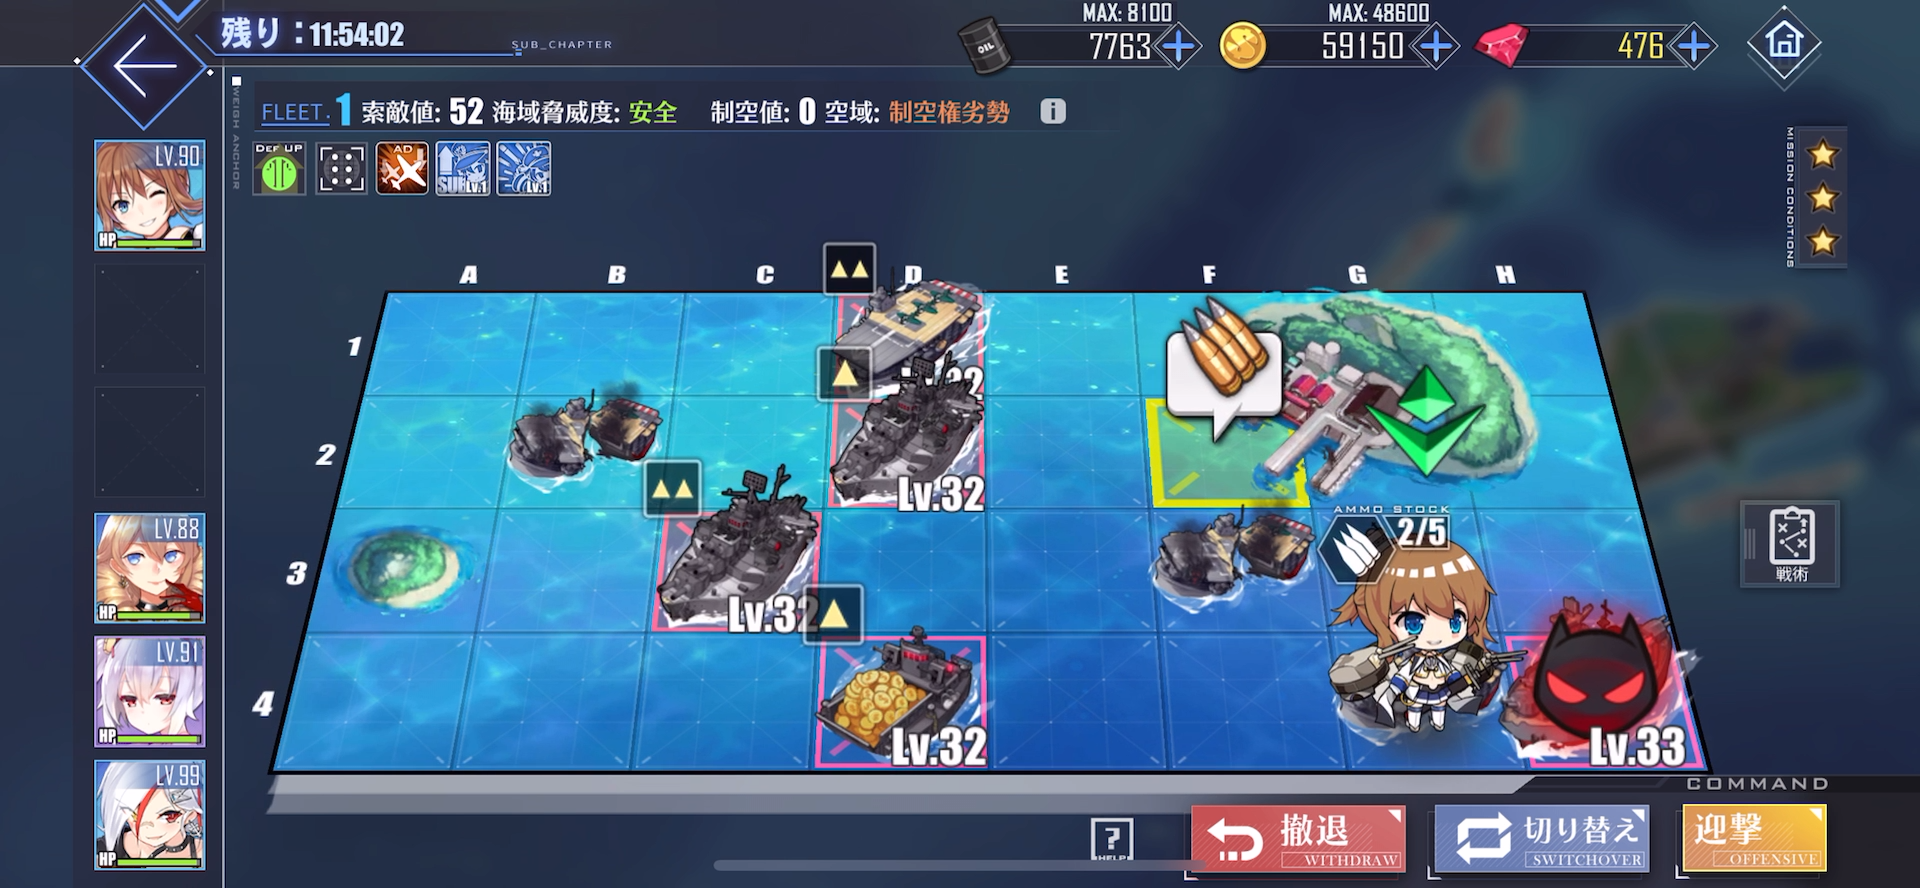boss: (1505, 596, 1693, 770)
